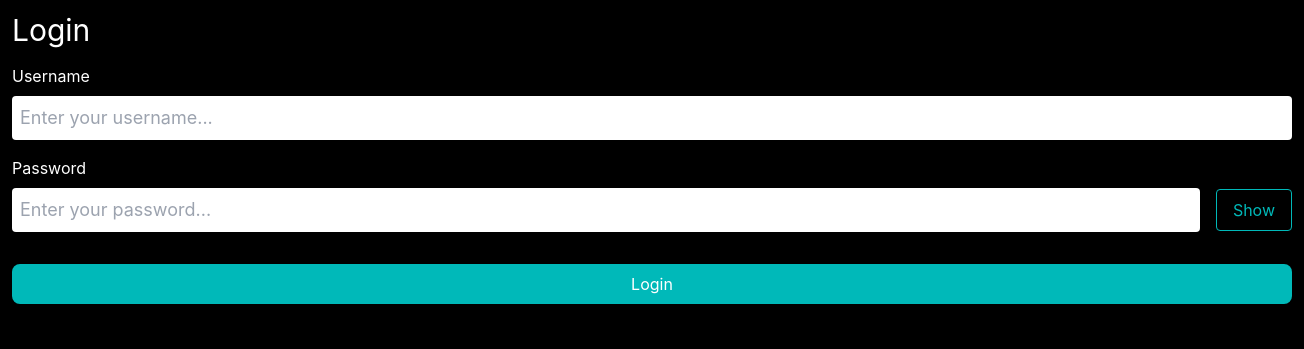
Test case: Login › should show username required if password but no username provided
Type "incard" into the password field labelled "Password".
click(606, 210); type("incard")  # box [12,188,1200,232]
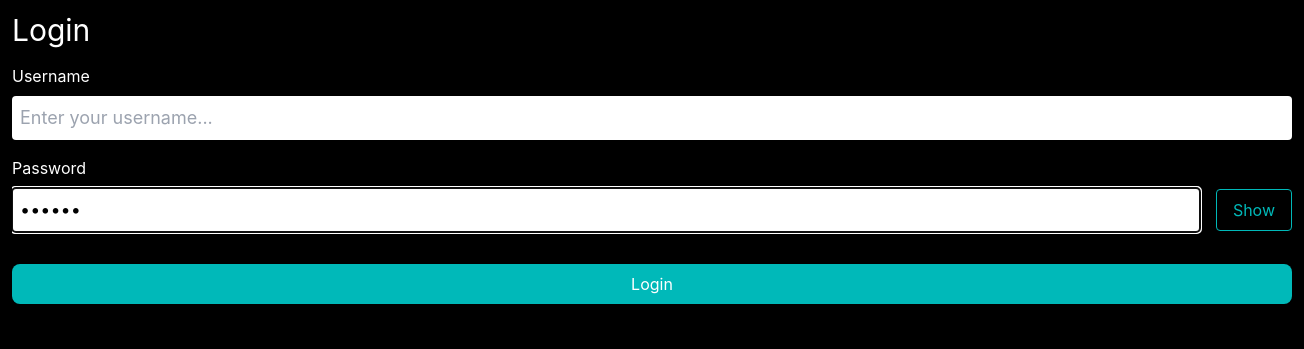
Click the button "Login".
click(652, 284)  # box [12,264,1292,304]
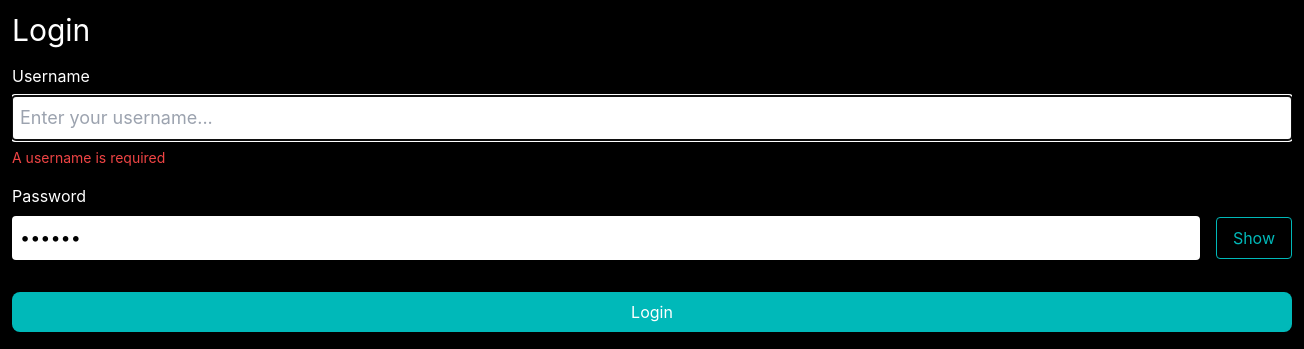
Check: the text "A username is required" is shown, box [12,149,165,166]
